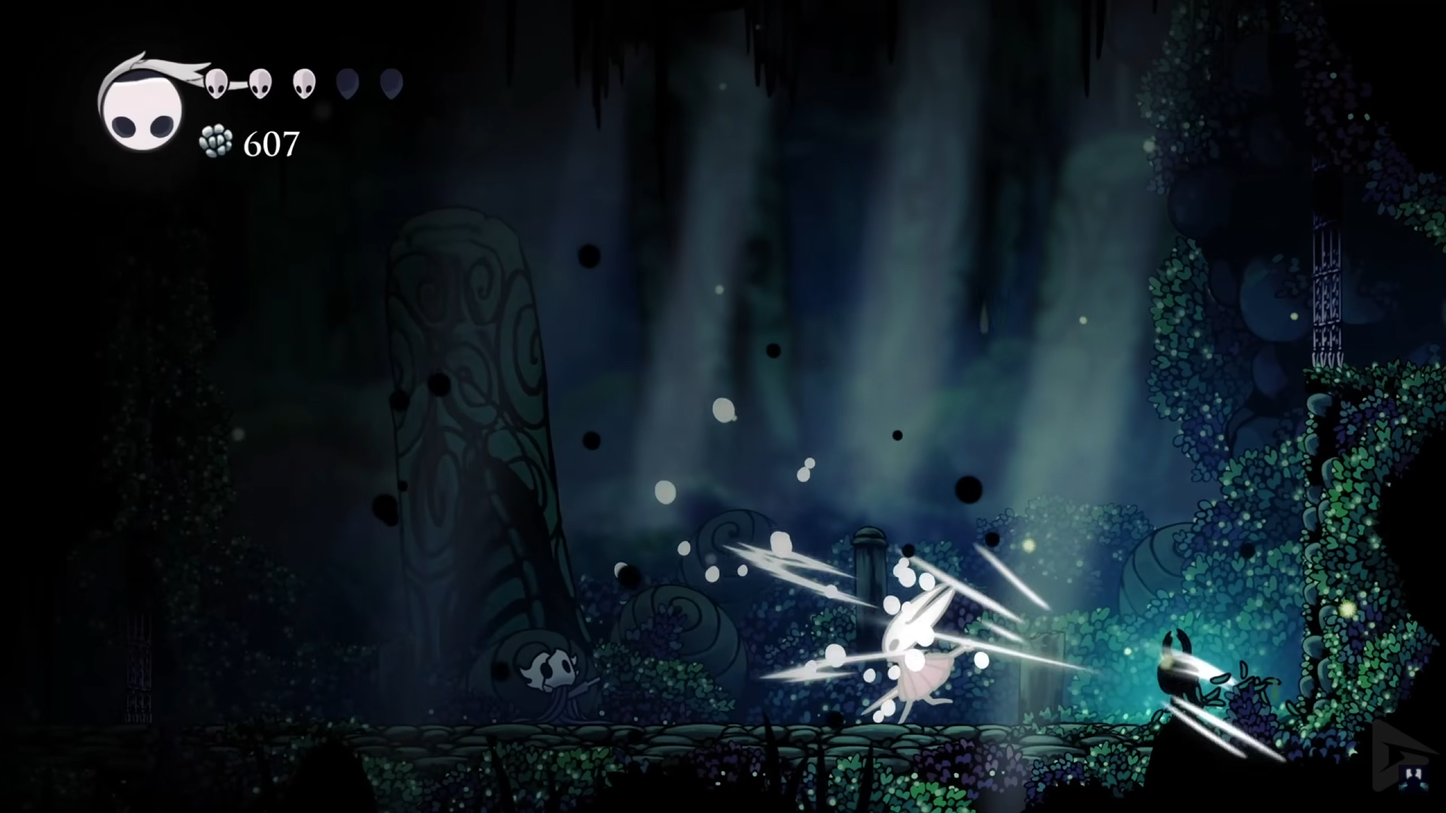HK: (1157, 629, 1210, 739)
